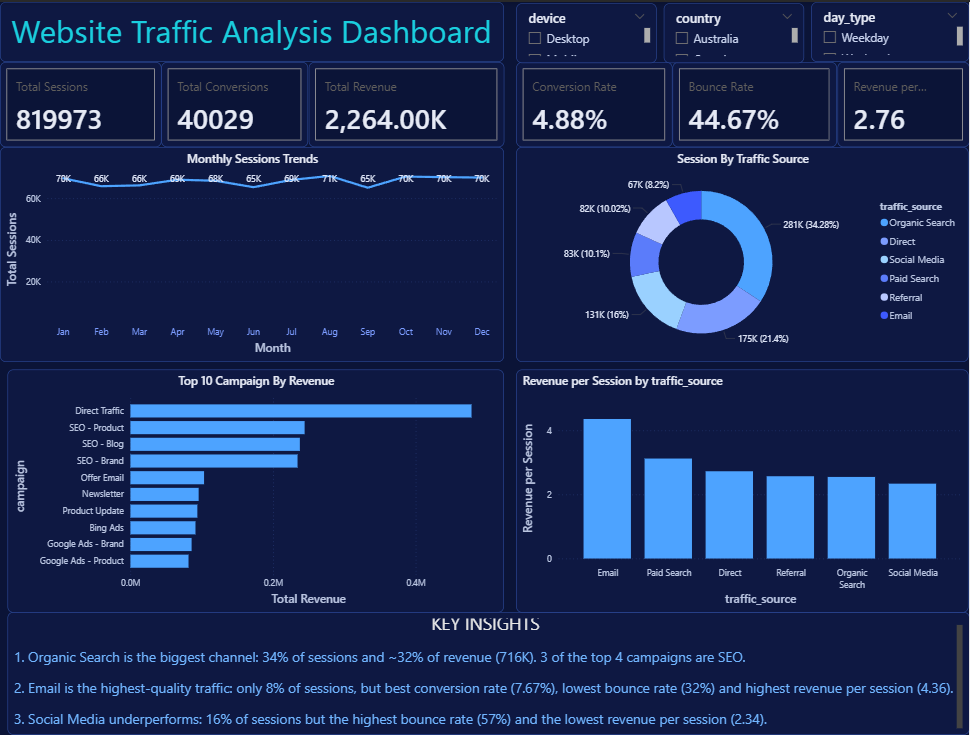

Layout of this report page (visuals, bound fields, positions):
{"tool":"powerbi","page":{"name":"Page 1","canvas":[1320,999],"ordinal":0},"visuals":[{"type":"textbox","box":[0,0,686.2,81.2],"z":0},{"type":"cardVisual","fields":{"Data":["Fact_traffic.Total Sessions"]},"box":[0,81.2,220,116.2],"z":1000},{"type":"cardVisual","fields":{"Data":["Fact_traffic.Total Conversions"]},"box":[220,81.2,200,116.2],"z":2000},{"type":"cardVisual","fields":{"Data":["Fact_traffic.Total Revenue"]},"box":[420,81.2,266.2,116.2],"z":3000},{"type":"cardVisual","fields":{"Data":["Dim_Date.Conversion Rate"]},"box":[703.8,81.2,212.5,116.2],"z":4000},{"type":"cardVisual","fields":{"Data":["Dim_Date.Revenue per Session"]},"box":[1140,81.2,180,116.2],"z":5000},{"type":"cardVisual","fields":{"Data":["Dim_Date.Bounce Rate"]},"box":[916.2,81.2,223.8,116.2],"z":6000},{"type":"lineChart","title":"Monthly Sessions Trends","fields":{"Category":["Dim_Date.Month"],"Y":["Fact_traffic.Total Sessions"]},"box":[0,197.5,686.2,292.5],"z":7000},{"type":"donutChart","title":"Session By Traffic Source","fields":{"Category":["Fact_traffic.traffic_source"],"Y":["Fact_traffic.Total Sessions"]},"box":[703.8,197.5,616.2,292.5],"z":8000},{"type":"clusteredBarChart","title":"Top 10 Campaign By  Revenue","fields":{"Category":["Fact_traffic.campaign"],"Y":["Fact_traffic.Total Revenue"]},"box":[10,500,676.2,331.2],"z":9000},{"type":"slicer","fields":{"Values":["Fact_traffic.device"]},"box":[703.8,1.2,191.2,81.2],"z":10000},{"type":"slicer","fields":{"Values":["Fact_traffic.country"]},"box":[903.8,2.5,191.2,81.2],"z":11000},{"type":"slicer","fields":{"Values":["Fact_traffic.day_type"]},"box":[1105,0,215,81.2],"z":12000},{"type":"textbox","box":[10,831.2,1310,167.5],"z":13000},{"type":"clusteredColumnChart","fields":{"Category":["Fact_traffic.traffic_source"],"Y":["Dim_Date.Revenue per Session"]},"box":[703.8,500,616.2,331.2],"z":13001}]}

Visuals, with their boxes in screenshot pixels (x1, y1, x2, y2), scaled from the page's 1320x999 canvas onto the 970x735 screenshot:
textbox: [left=0, top=0, right=504, bottom=60]
cardVisual - Fact_traffic.Total Sessions: [left=0, top=60, right=162, bottom=145]
cardVisual - Fact_traffic.Total Conversions: [left=162, top=60, right=309, bottom=145]
cardVisual - Fact_traffic.Total Revenue: [left=309, top=60, right=504, bottom=145]
cardVisual - Dim_Date.Conversion Rate: [left=517, top=60, right=673, bottom=145]
cardVisual - Dim_Date.Revenue per Session: [left=838, top=60, right=969, bottom=145]
cardVisual - Dim_Date.Bounce Rate: [left=673, top=60, right=838, bottom=145]
"Monthly Sessions Trends" lineChart: [left=0, top=145, right=504, bottom=361]
"Session By Traffic Source" donutChart: [left=517, top=145, right=969, bottom=361]
"Top 10 Campaign By  Revenue" clusteredBarChart: [left=7, top=368, right=504, bottom=612]
slicer - Fact_traffic.device: [left=517, top=1, right=658, bottom=61]
slicer - Fact_traffic.country: [left=664, top=2, right=805, bottom=62]
slicer - Fact_traffic.day_type: [left=812, top=0, right=969, bottom=60]
textbox: [left=7, top=612, right=969, bottom=734]
clusteredColumnChart - Fact_traffic.traffic_source x Dim_Date.Revenue per Session: [left=517, top=368, right=969, bottom=612]
